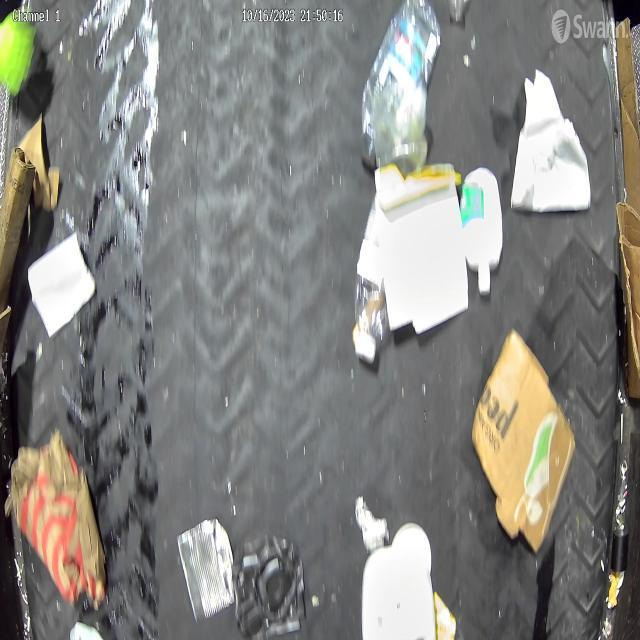can: (358, 0, 444, 175), (174, 511, 240, 624)
